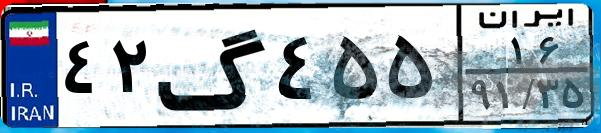1: (508, 27, 537, 80), (495, 70, 520, 125)
2: (110, 28, 156, 98)
3: (535, 70, 560, 125)
4: (270, 28, 330, 110), (57, 26, 110, 100)
5: (385, 28, 445, 110), (330, 28, 385, 110), (560, 70, 590, 125)
6: (537, 27, 568, 80)
9: (470, 70, 495, 125)
گ: (156, 12, 270, 120)
